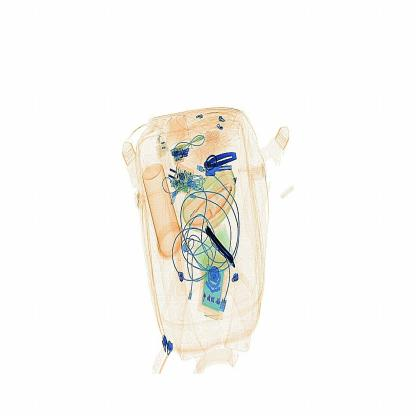knife: (208, 225, 237, 271)
